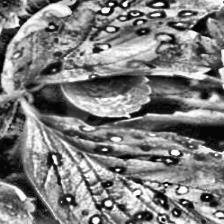Leaf Spot: (19, 97, 224, 224), (0, 0, 224, 96), (0, 0, 67, 125)
